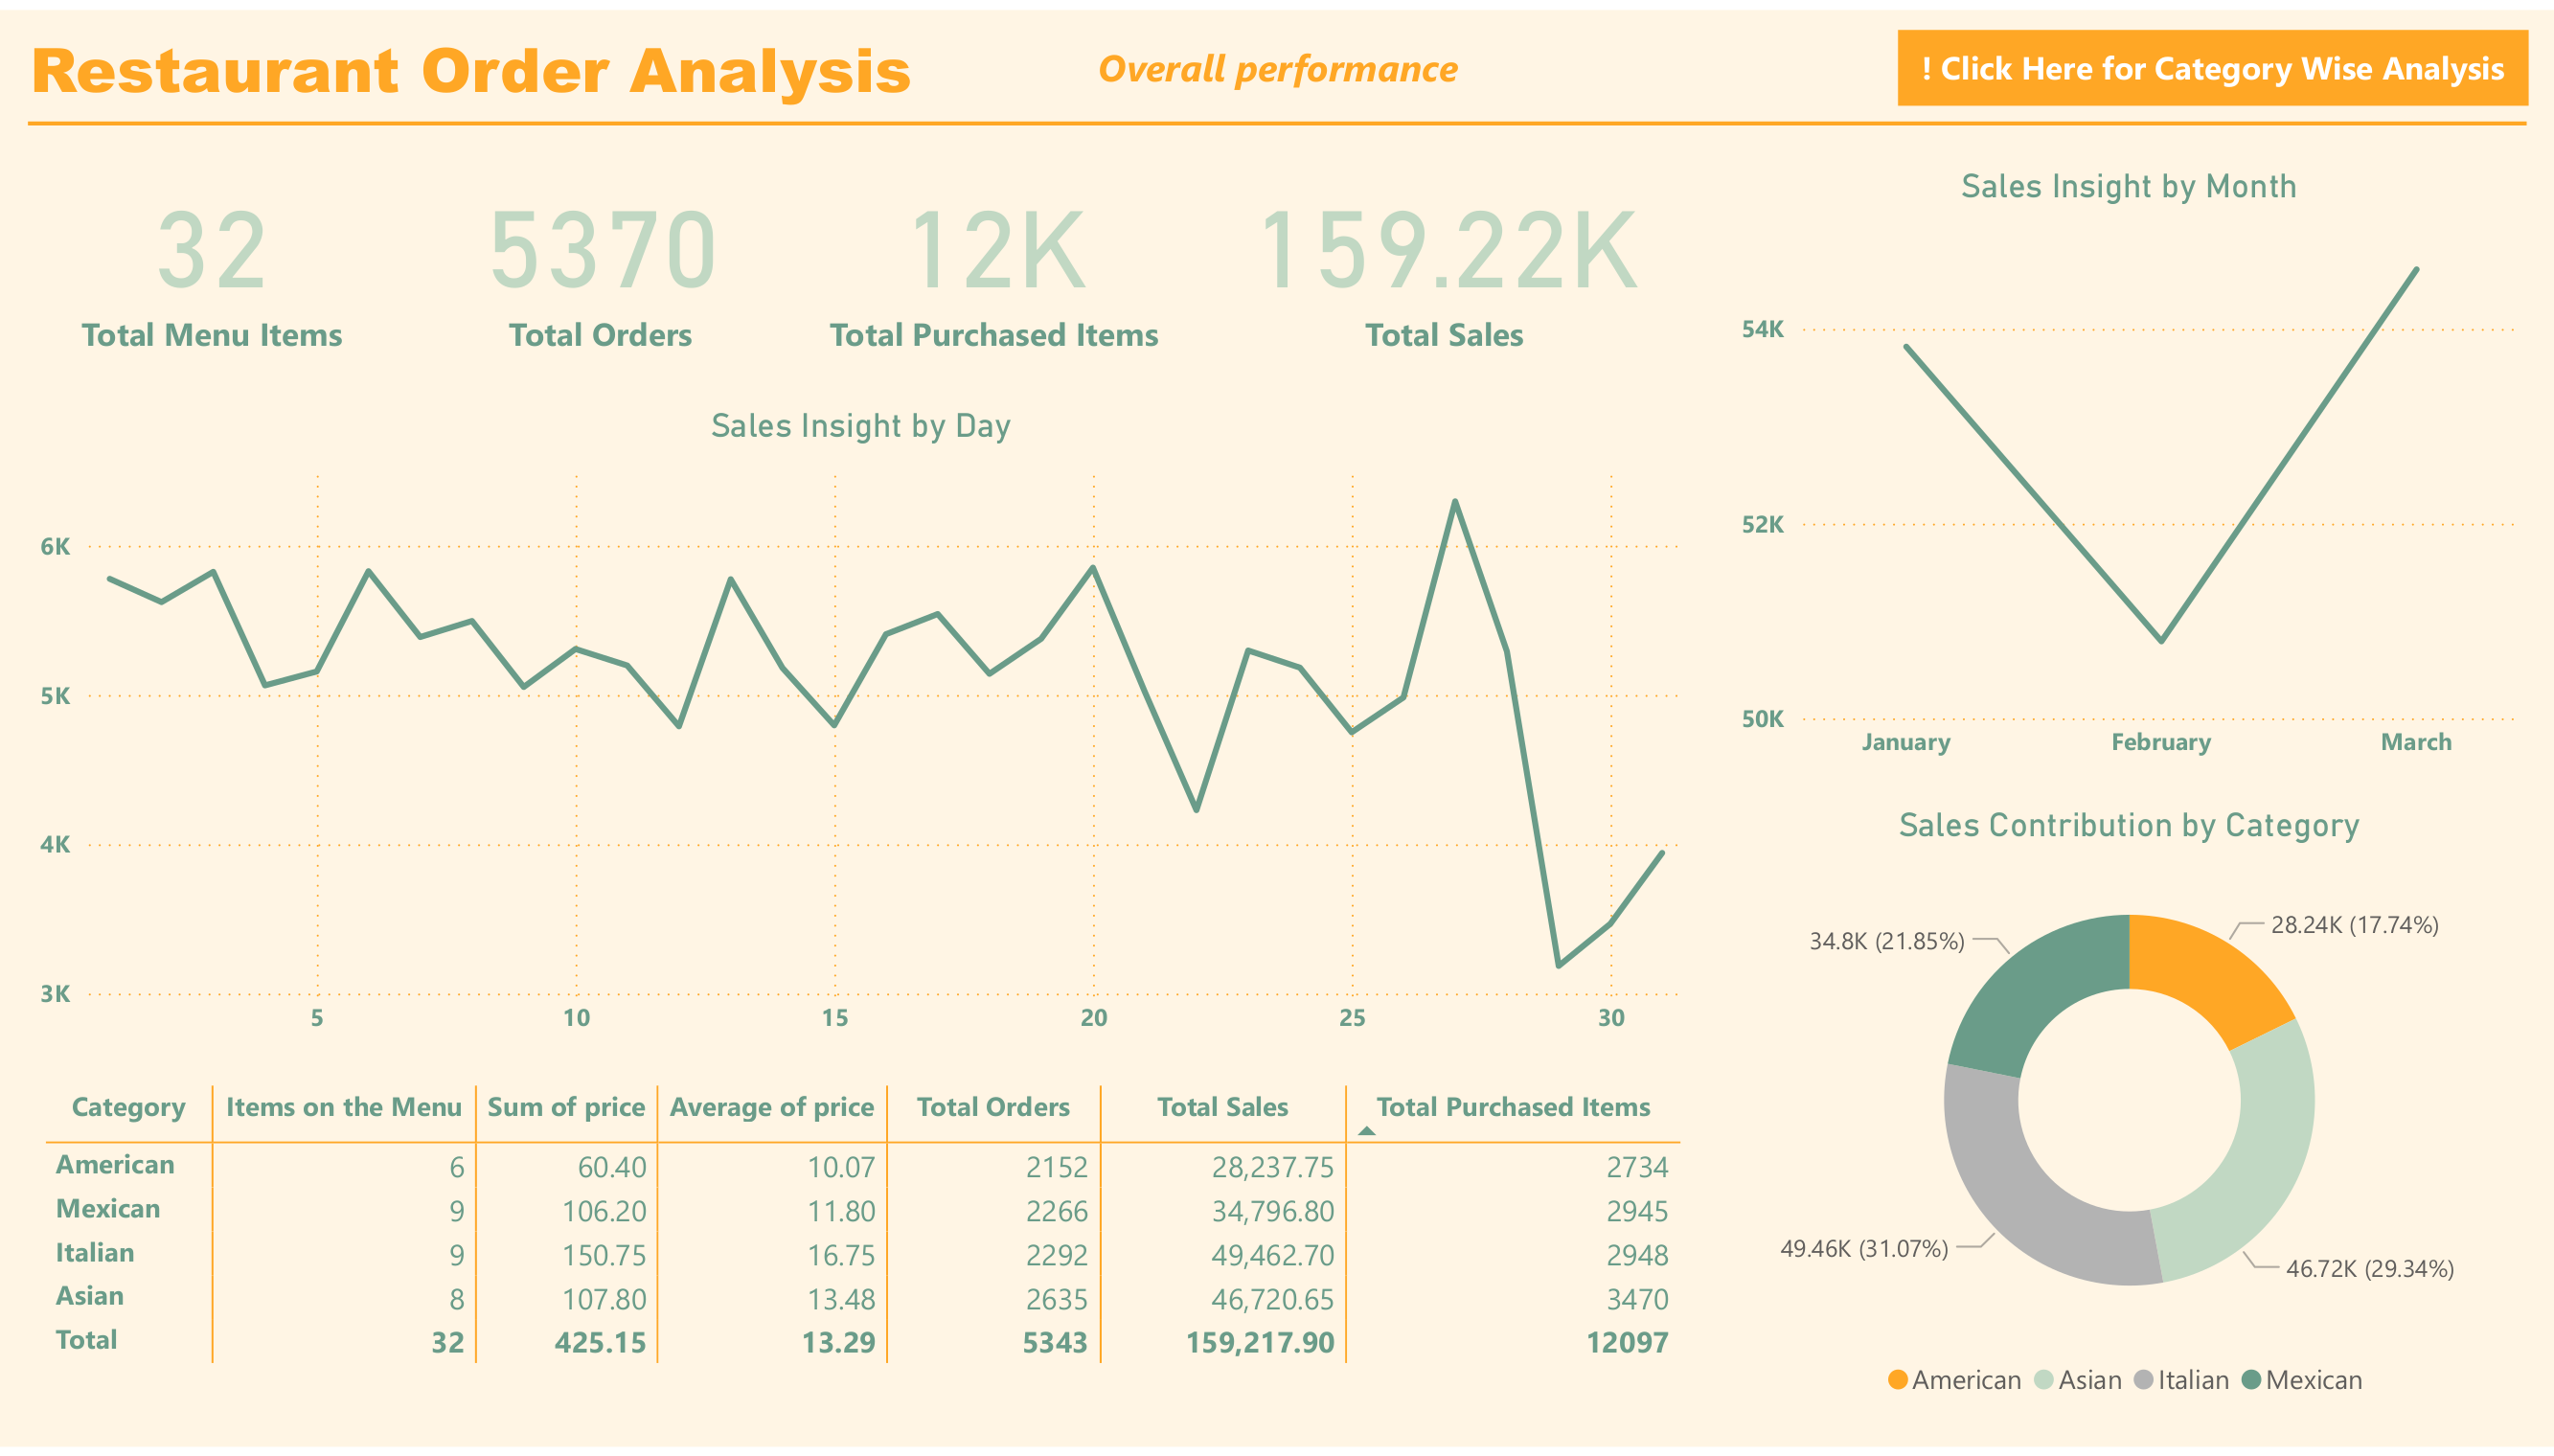

The dashboard page shown, as its layout file describes it:
{"tool":"powerbi","page":{"name":"Overall Analysis","canvas":[1280,720],"ordinal":0},"visuals":[{"type":"shape","box":[0,0,1279.7,58],"z":0},{"type":"card","fields":{"Values":["Measures Table.Number of Items on The menu"]},"box":[14.9,73.1,182.1,101.5],"z":1000},{"type":"card","fields":{"Values":["Measures Table.Total Count of Orders"]},"box":[210.4,73.1,182.1,101.5],"z":2000},{"type":"card","fields":{"Values":["Measures Table.Total Count of Purchased Items"]},"box":[407.5,73.1,182.1,101.5],"z":3000},{"type":"card","fields":{"Values":["Sum(order_details.Sales)"]},"box":[600,73.1,247.8,101.5],"z":4000},{"type":"lineChart","title":"Sales Insight by Day ","fields":{"Category":["order_details.order_date.Variation.Date Hierarchy.Year","order_details.order_date.Variation.Date Hierarchy.Quarter","order_details.order_date.Variation.Date Hierarchy.Month","order_details.order_date.Variation.Date Hierarchy.Day"],"Y":["Sum(order_details.Sales)"]},"box":[14.9,192.5,832.8,329.9],"z":5000},{"type":"lineChart","title":"Sales Insight by Month","fields":{"Category":["order_details.order_date.Variation.Date Hierarchy.Month"],"Y":["Sum(order_details.Sales)"]},"box":[867.2,73.1,400,311.9],"z":6000},{"type":"donutChart","title":"Sales Contribution by Category","fields":{"Y":["Sum(order_details.Sales)"],"Series":["menu_items.category"]},"box":[867.2,392.5,400,311.9],"z":7000},{"type":"pivotTable","fields":{"Rows":["menu_items.category"],"Values":["menu_items.Number of Items on The menu","Sum(menu_items.price)","Avg(menu_items.price)1","Measures Table.Total Count of Orders","Sum(order_details.Sales)","Measures Table.Total Count of Purchased Items"]},"box":[17.9,534.3,829.9,170.1],"z":8000},{"type":"shape","box":[14.5,46.4,1252.2,21.7],"z":9000},{"type":"actionButton","box":[950.7,10.1,315.9,37.7],"z":10000},{"type":"shape","box":[490.1,0,300.7,57.8],"z":10001}]}

Visuals, with their boxes in screenshot pixels (x1, y1, x2, y2), scaled from the page's 1280x720 canvas onto the 2554x1456 screenshot:
shape: Rect(0, 0, 2553, 117)
card - Measures Table.Number of Items on The menu: Rect(30, 148, 393, 353)
card - Measures Table.Total Count of Orders: Rect(420, 148, 784, 353)
card - Measures Table.Total Count of Purchased Items: Rect(813, 148, 1176, 353)
card - Sum(order_details.Sales): Rect(1197, 148, 1692, 353)
"Sales Insight by Day " lineChart: Rect(30, 389, 1692, 1057)
"Sales Insight by Month" lineChart: Rect(1730, 148, 2528, 779)
"Sales Contribution by Category" donutChart: Rect(1730, 794, 2528, 1424)
pivotTable - menu_items.category x menu_items.Number of Items on The menu: Rect(35, 1081, 1692, 1424)
shape: Rect(29, 94, 2527, 138)
actionButton: Rect(1897, 20, 2527, 97)
shape: Rect(978, 0, 1578, 117)
